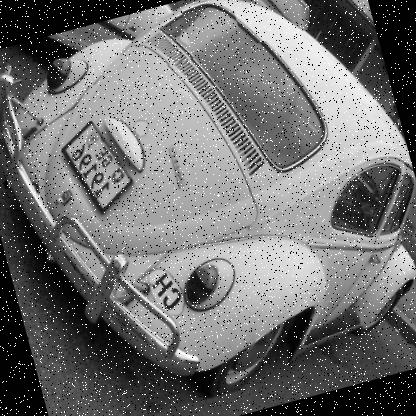Car: (0, 0, 415, 415), (24, 0, 194, 100), (227, 0, 315, 48)
